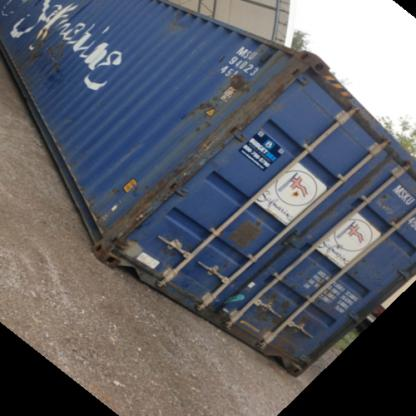Damage: (110, 167, 182, 231), (23, 26, 69, 77), (182, 97, 226, 134), (234, 215, 267, 255), (221, 62, 253, 92)
